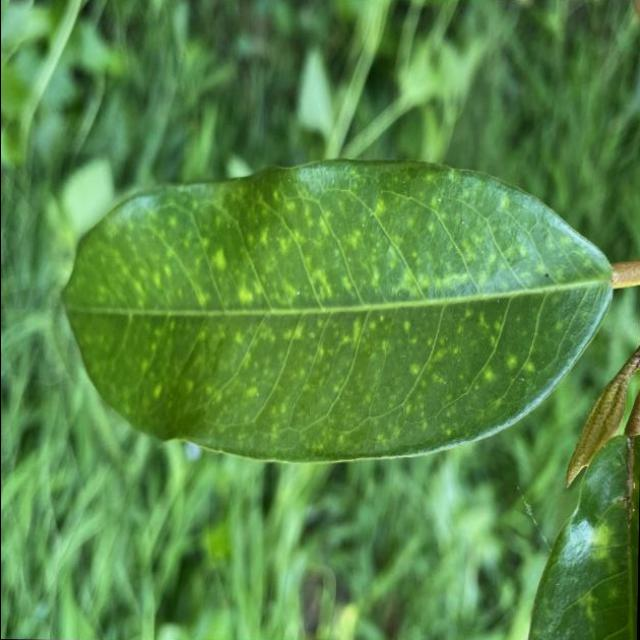Leaf Spot: (54, 138, 624, 486)
